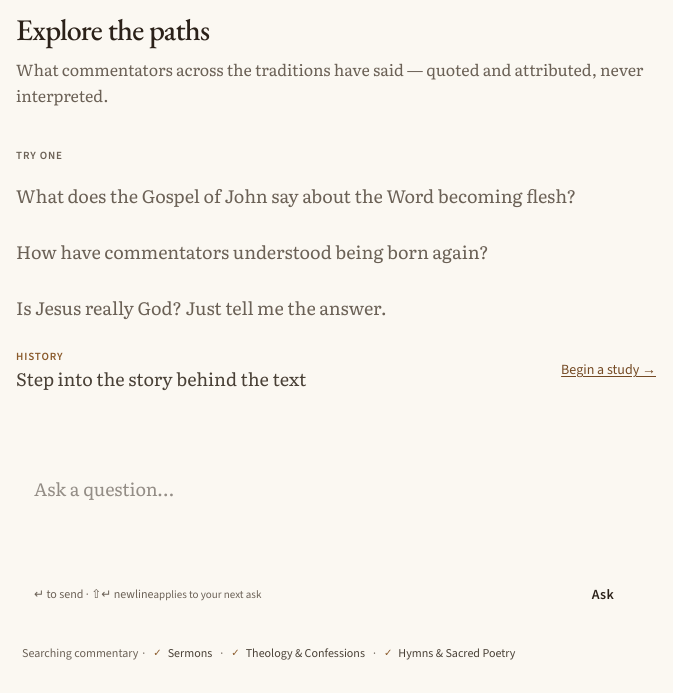
Test: L1 — a stream that ends without a terminal event still resolves › the question survives the failure, so nobody retypes it
This screenshot has width=673, height=693.
Type "Why does Job suffer?" into the text box with placeholder "Ask a question…" at coordinates (336, 517), box [28, 472, 644, 562]
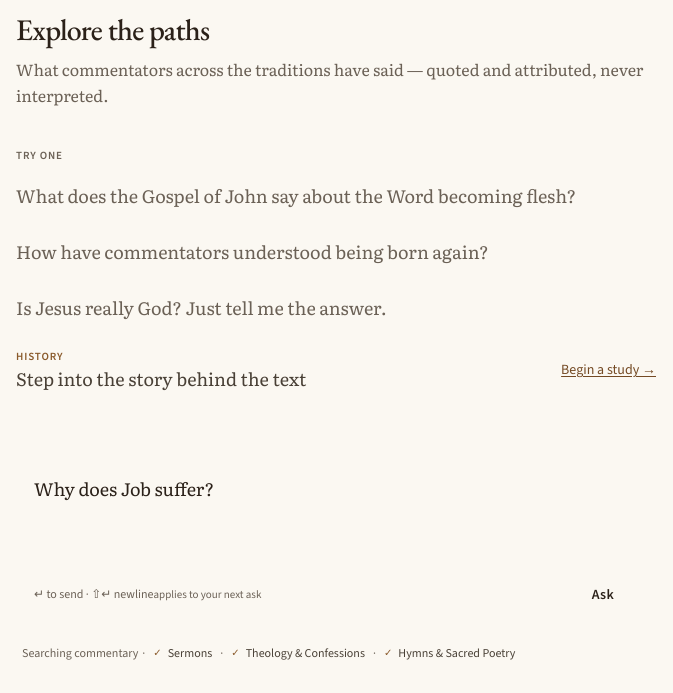
Submit the form with placeholder "Ask a question", box [16, 460, 656, 677]
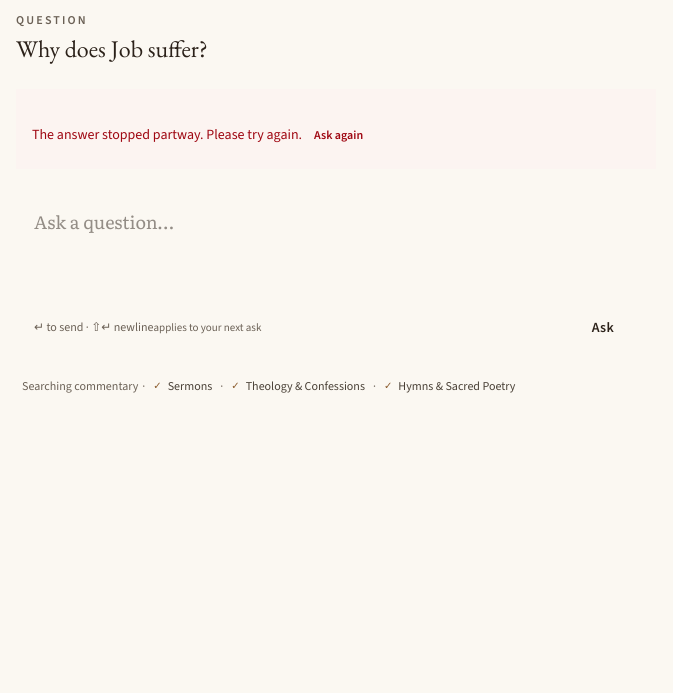
Expected: the text "Why does Job suffer?" is shown, [16, 33, 208, 64]
